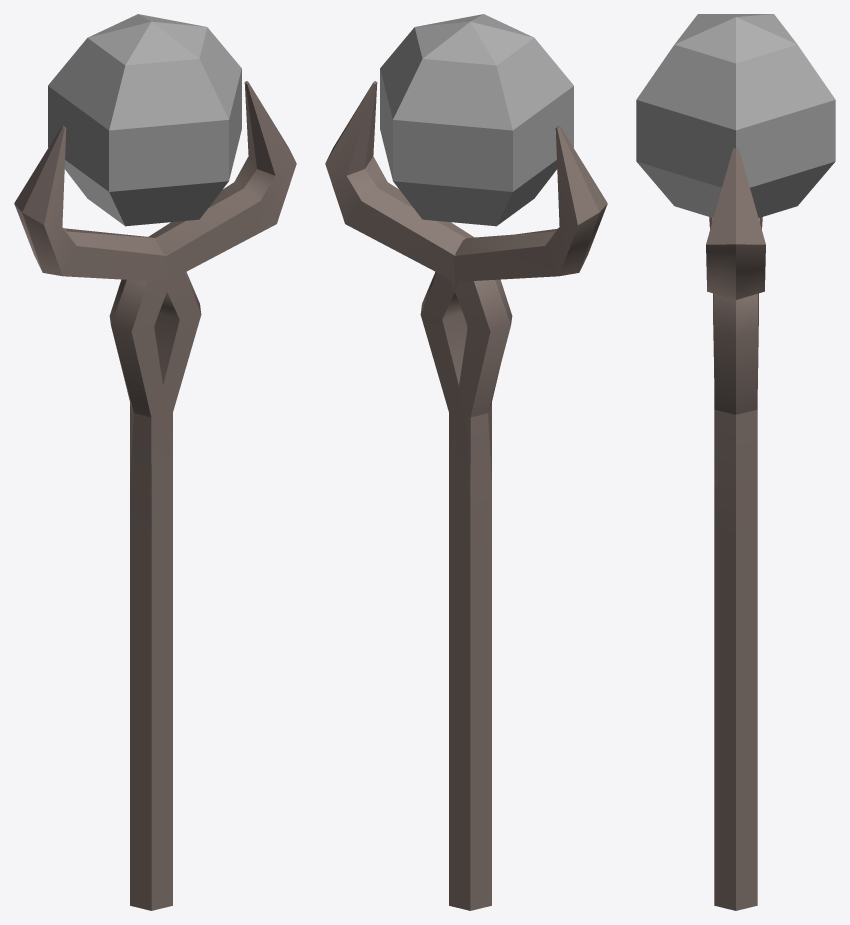
Rendered from Staff.fbx.
3 renders of one model, left to right at view 1: azimuth 30°, elevation 25°; view 2: azimuth 150°, elevation 25°; view 3: azimuth 270°, elevation 25°, orthographic.
Visible parts, largest first — view 1: Staff; view 2: Staff; view 3: Staff.
Part boxes in pixels (x1=…): Staff: x1=14, y1=14, x2=296, y2=910; Staff: x1=325, y1=14, x2=607, y2=910; Staff: x1=636, y1=14, x2=835, y2=910.
Bounding box in the file's own units: 63.63 × 201 × 41.03.
